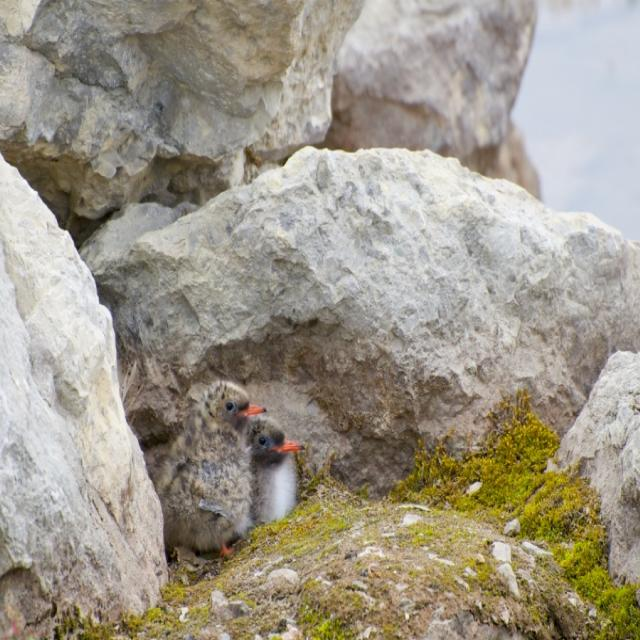bird: (162, 381, 267, 561), (245, 410, 304, 526)
